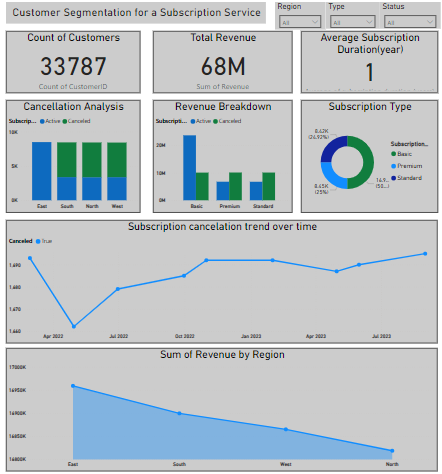

What the dashboard file says about the page in this screenshot:
{"tool":"powerbi","page":{"name":"Page 1","canvas":[980,1080],"ordinal":0},"visuals":[{"type":"card","title":"Count of Customers","fields":{"Values":["CountNonNull(customer_data.CustomerID)"]},"box":[20,100,291.7,135],"z":0},{"type":"card","title":"Total Revenue","fields":{"Values":["Sum(customer_data.Revenue)"]},"box":[338.3,100,303.3,135],"z":1000},{"type":"card","title":"Average Subscription Duration(year)","fields":{"Values":["Avg(customer_data.subscription duration (years))"]},"box":[660,100,298.3,135],"z":2000},{"type":"donutChart","title":"Subscription Type","fields":{"Category":["customer_data.SubscriptionType"],"Y":["CountNonNull(customer_data.CustomerID)"]},"box":[660,250,298.3,245],"z":3000},{"type":"columnChart","title":"Cancellation Analysis","fields":{"Category":["customer_data.Region"],"Y":["CountNonNull(customer_data.CustomerID)"],"Series":["customer_data.SubscriptionStatus"]},"box":[20,250,291.7,245],"z":4000},{"type":"lineChart","title":"Subscription cancelation trend over time","fields":{"Y":["CountNonNull(customer_data.Canceled)"],"Category":["customer_data.SubscriptionStart.Variation.Date Hierarchy.Year","customer_data.SubscriptionStart.Variation.Date Hierarchy.Quarter","customer_data.SubscriptionStart.Variation.Date Hierarchy.Month","customer_data.SubscriptionStart.Variation.Date Hierarchy.Day"],"Series":["customer_data.Canceled"]},"box":[20,510,938.3,268.3],"z":5000},{"type":"clusteredColumnChart","title":"Revenue Breakdown","fields":{"Category":["customer_data.SubscriptionType"],"Y":["Sum(customer_data.Revenue)"],"Series":["customer_data.SubscriptionStatus"]},"box":[338.3,250,303.3,245],"z":6000},{"type":"slicer","title":"Region","fields":{"Values":["customer_data.Region"]},"box":[605,36.7,110,60],"z":7000},{"type":"slicer","title":"Type","fields":{"Values":["customer_data.SubscriptionType"]},"box":[715,36.7,116.7,58.3],"z":8000},{"type":"slicer","title":"Status","fields":{"Values":["customer_data.SubscriptionStatus"]},"box":[831.7,36.7,131.7,58.3],"z":9000},{"type":"textbox","box":[20,36.7,565,46.7],"z":10000},{"type":"areaChart","fields":{"Category":["customer_data.Region"],"Y":["Sum(customer_data.Revenue)"]},"box":[20,790,938.3,268.3],"z":11000}]}

Visuals, with their boxes in screenshot pixels (x1, y1, x2, y2), scaled from the page's 980x1080 canvas onto the 442x474 screenshot:
"Count of Customers" card: BBox(9, 44, 141, 103)
"Total Revenue" card: BBox(153, 44, 289, 103)
"Average Subscription Duration(year)" card: BBox(298, 44, 432, 103)
"Subscription Type" donutChart: BBox(298, 110, 432, 217)
"Cancellation Analysis" columnChart: BBox(9, 110, 141, 217)
"Subscription cancelation trend over time" lineChart: BBox(9, 224, 432, 342)
"Revenue Breakdown" clusteredColumnChart: BBox(153, 110, 289, 217)
"Region" slicer: BBox(273, 16, 322, 42)
"Type" slicer: BBox(322, 16, 375, 42)
"Status" slicer: BBox(375, 16, 435, 42)
textbox: BBox(9, 16, 264, 37)
areaChart - customer_data.Region x Sum(customer_data.Revenue): BBox(9, 347, 432, 464)
